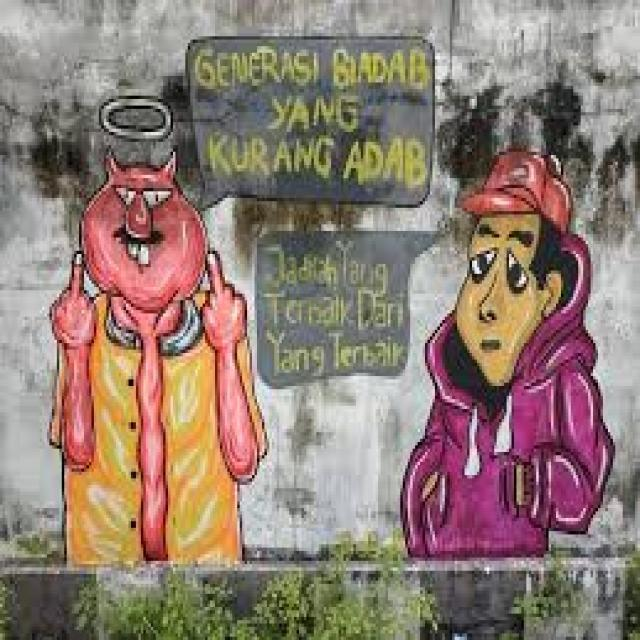-: (45, 32, 614, 564)
